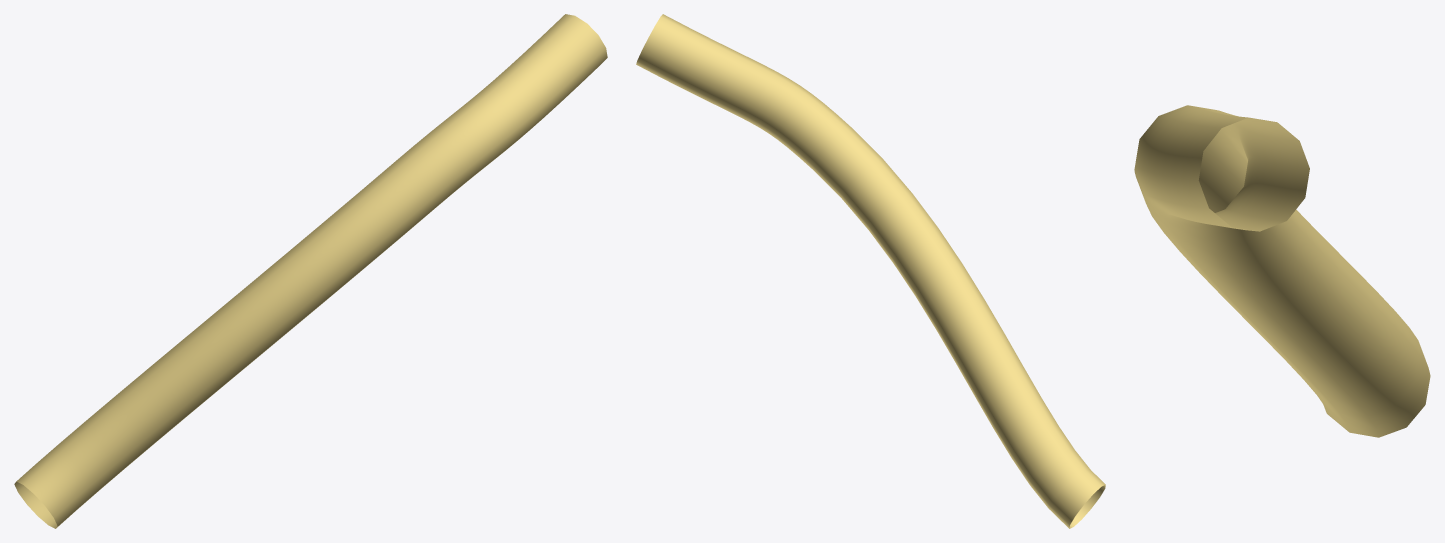
3 views of the same model, side by side, from view 1: azimuth 30°, elevation 25°; view 2: azimuth 150°, elevation 25°; view 3: azimuth 270°, elevation 25° (orthographic). The views are drawn at different scales.
Visible parts, largest first — view 1: ZA_987bcbc091445a6a; view 2: ZA_987bcbc091445a6a; view 3: ZA_987bcbc091445a6a.
Boxes of the visible parts, left/top/right/bottom form: ZA_987bcbc091445a6a: left=14, top=14, right=607, bottom=528; ZA_987bcbc091445a6a: left=636, top=14, right=1105, bottom=528; ZA_987bcbc091445a6a: left=1134, top=105, right=1430, bottom=437.
Bounding box in the file's own units: 0.0297 × 0.0218 × 0.00775.
